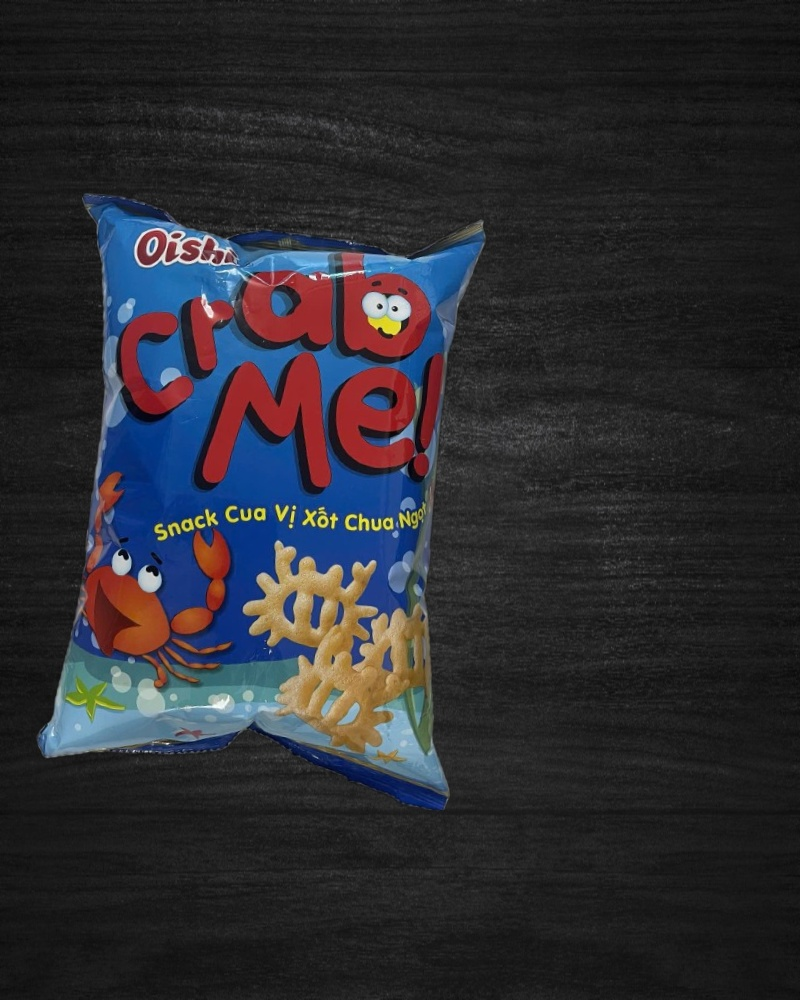Snack cua: (33, 185, 500, 806)
